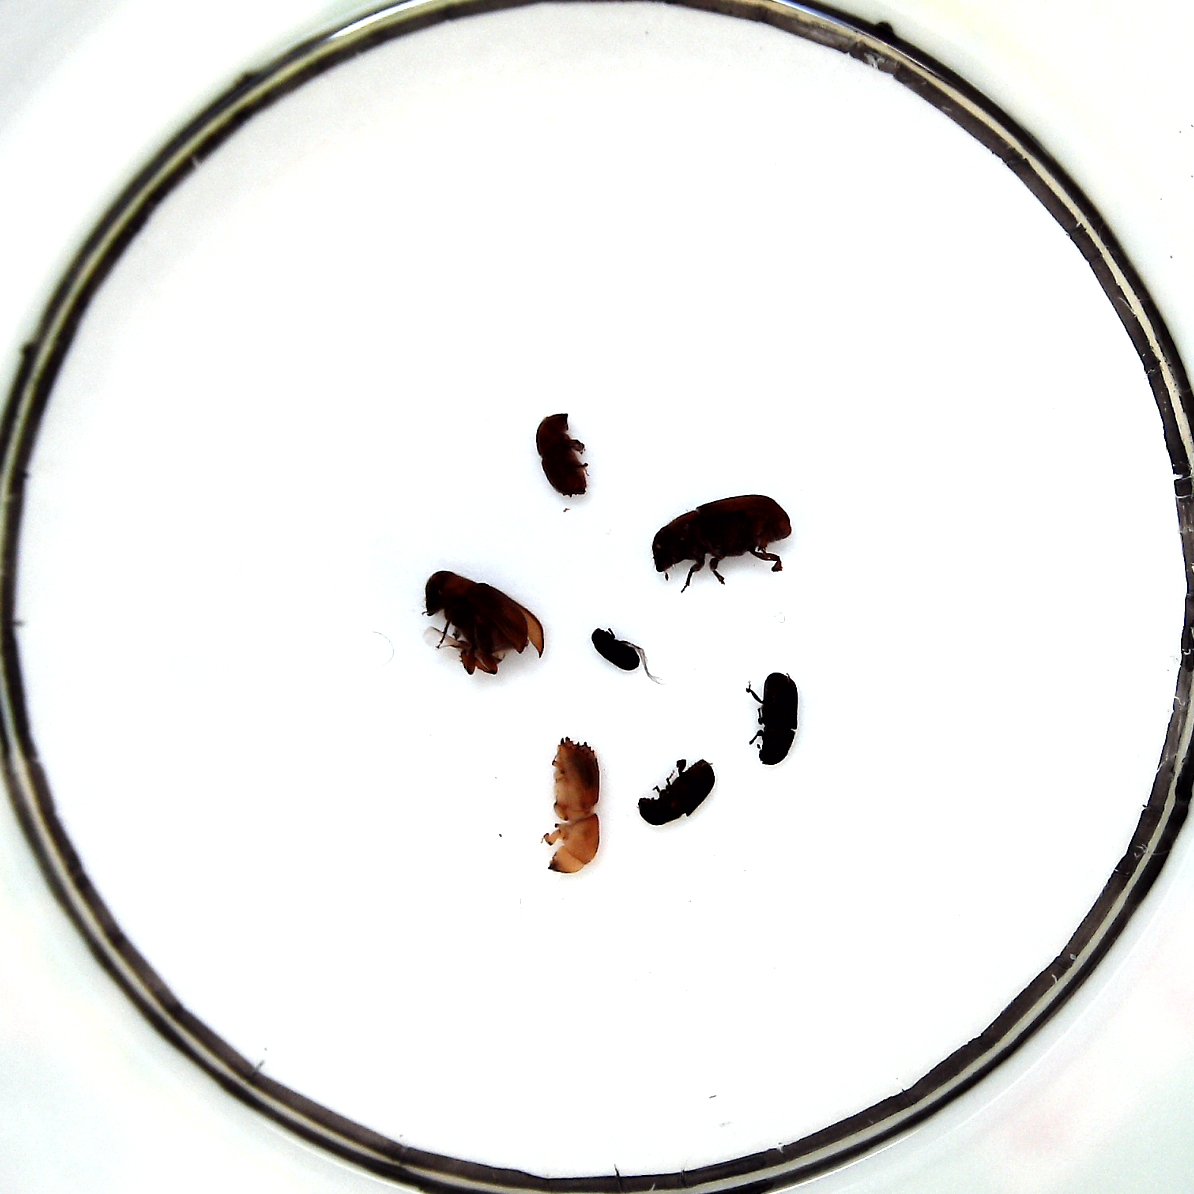Boerner: (546, 735, 599, 873)
Leconte: (425, 570, 545, 675), (652, 494, 792, 572)
armandi: (637, 758, 715, 826), (535, 413, 587, 495), (758, 671, 798, 764)
coleoptera: (592, 627, 640, 671)
